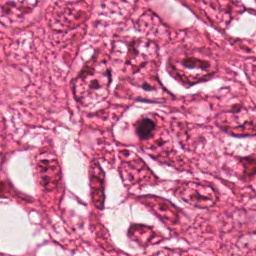mitosis: (4, 221, 14, 231)
